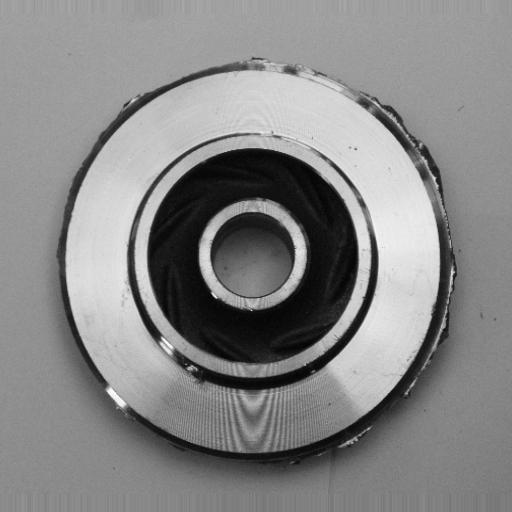casting_with_burr: (57, 57, 461, 468)
scratch: (254, 121, 329, 163), (152, 327, 194, 366)
